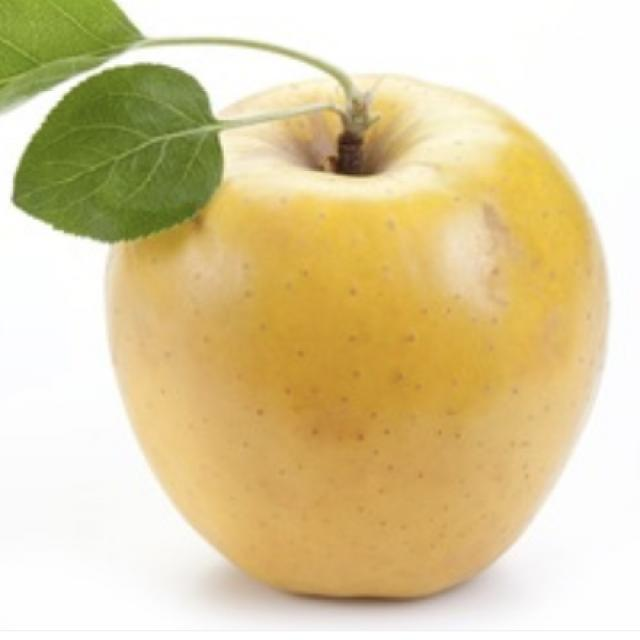Fresh Apple: (100, 78, 600, 610)
